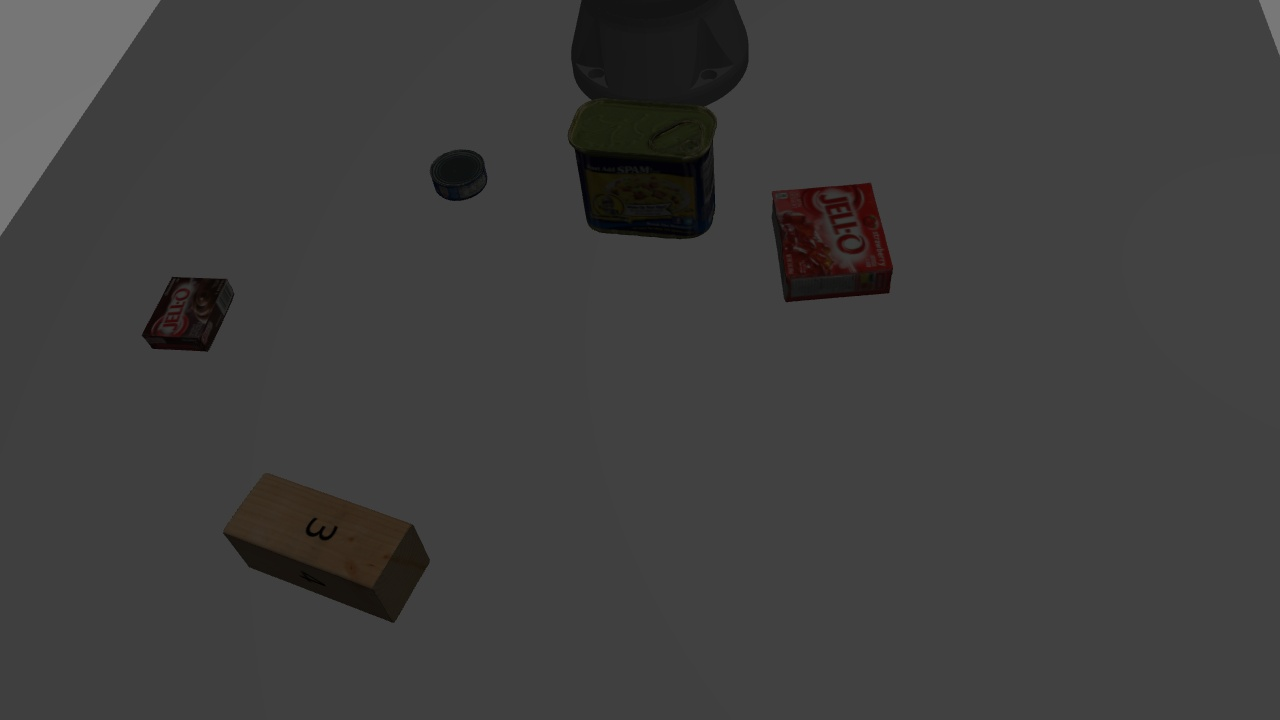gelatin_box: (768, 176, 896, 301)
potted_meat_can: (562, 94, 721, 242)
pudding_box: (134, 269, 237, 361)
tuna_fish_can: (426, 146, 492, 203)
wood_block: (218, 446, 441, 630)
